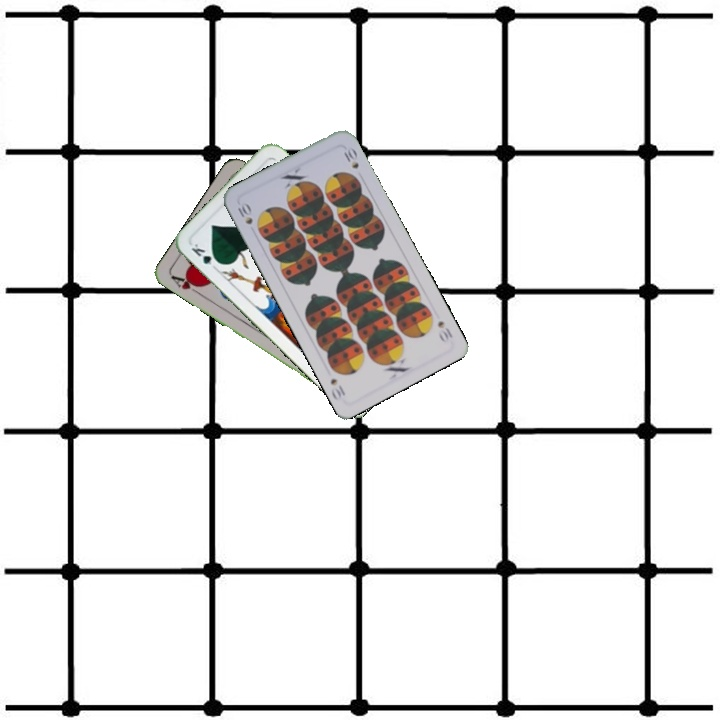GK: (187, 239, 223, 268)
HA: (167, 271, 205, 298)
S10: (233, 198, 255, 227), (433, 316, 455, 345)
